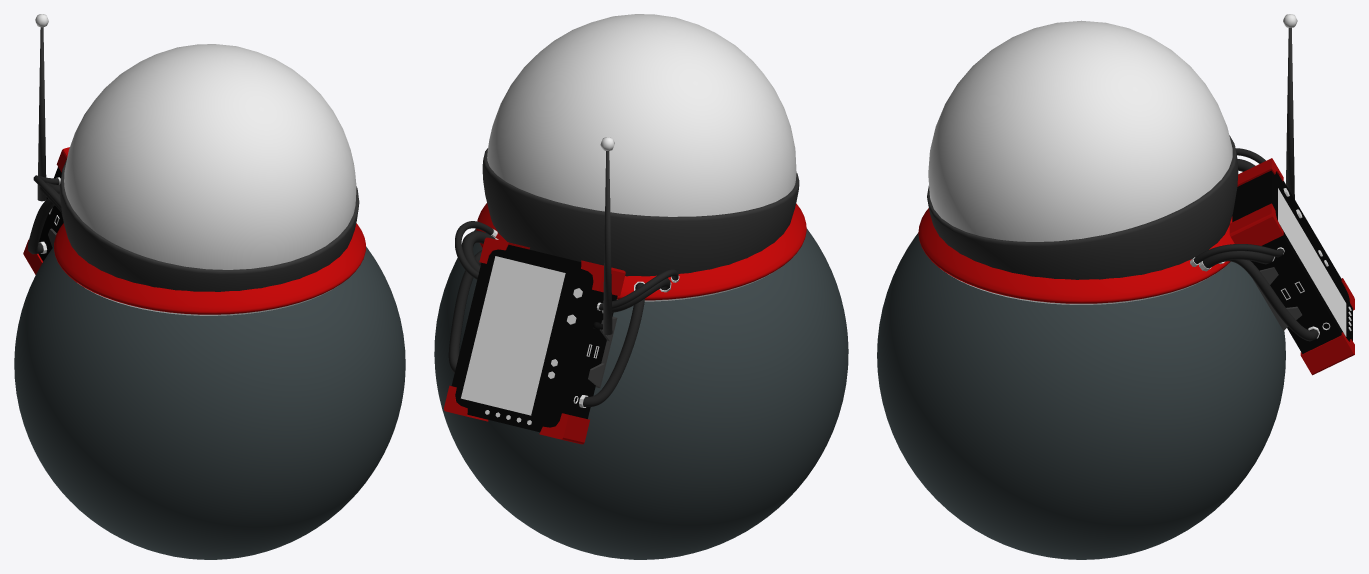
The model's file is RoboBall2.fbx.
The picture shows the model from 3 angles, left to right: view 1: azimuth 30°, elevation 25°; view 2: azimuth 150°, elevation 25°; view 3: azimuth 270°, elevation 25°; orthographic projection. The views are drawn at different scales.
Visible parts, largest first — view 1: Body, Upper; view 2: Upper, Body; view 3: Body, Upper.
Boxes of the visible parts, bbox=[...] form: Body: bbox=[14, 246, 405, 559]; Upper: bbox=[23, 14, 365, 315]; Upper: bbox=[444, 14, 806, 444]; Body: bbox=[434, 228, 848, 559]; Body: bbox=[877, 233, 1285, 559]; Upper: bbox=[918, 14, 1354, 375].
Size of the model in its own units: 100 by 136 by 117.
